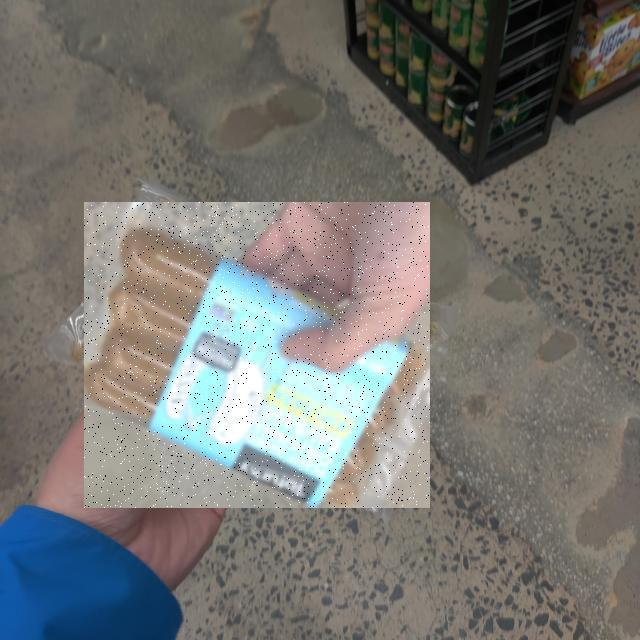Meat: (84, 202, 430, 508)
